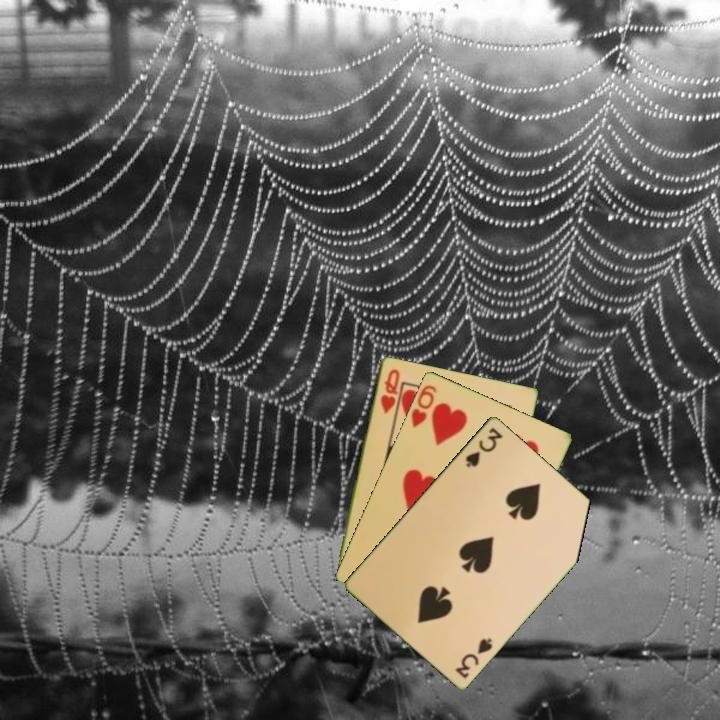3s: (462, 423, 506, 470), (452, 634, 495, 681)
6h: (407, 381, 440, 430)
Qh: (377, 365, 402, 417)
